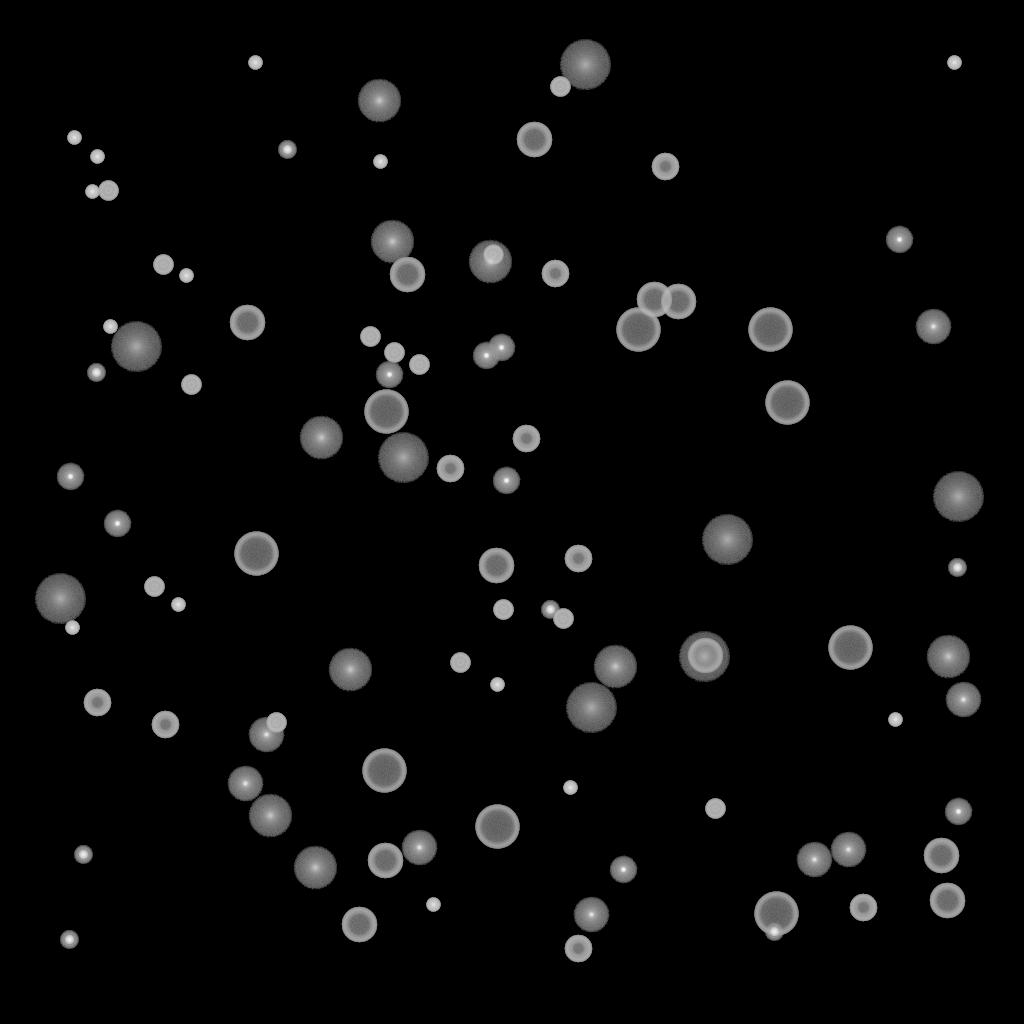depth:-10: (492, 467, 520, 495), (103, 510, 131, 538), (375, 361, 403, 389), (944, 798, 972, 826), (609, 856, 637, 884), (885, 226, 913, 254), (56, 463, 84, 491), (487, 334, 515, 362), (472, 342, 500, 370)
depth:-20: (278, 141, 296, 159), (87, 364, 105, 382), (765, 923, 783, 941), (948, 559, 966, 577), (60, 931, 78, 949), (74, 846, 92, 864), (541, 601, 559, 619)
depth:-30: (490, 678, 504, 692), (65, 621, 79, 635), (563, 781, 577, 795), (171, 598, 185, 612), (248, 56, 262, 70), (67, 131, 81, 145), (85, 185, 99, 199), (888, 713, 902, 727), (90, 150, 104, 164), (947, 56, 961, 70), (373, 155, 387, 169), (426, 898, 440, 912), (179, 269, 193, 283), (103, 320, 117, 334)
depth:-40: (266, 713, 286, 733), (409, 355, 429, 375), (153, 255, 173, 275), (384, 343, 404, 363), (483, 245, 503, 265), (493, 600, 513, 620), (450, 653, 470, 673), (360, 327, 380, 347), (705, 799, 725, 819), (181, 375, 201, 395), (98, 181, 118, 201), (553, 609, 573, 629), (144, 577, 164, 597), (550, 77, 570, 97)
depth:-50: (151, 711, 179, 739), (541, 260, 569, 288), (564, 545, 592, 573), (564, 935, 592, 963), (512, 425, 540, 453), (436, 455, 464, 483), (83, 689, 111, 717), (651, 153, 679, 181), (849, 894, 877, 922)
depth:-60: (229, 305, 265, 341), (389, 257, 425, 293), (478, 548, 514, 584), (341, 907, 377, 943), (516, 122, 552, 158), (660, 284, 696, 320), (687, 638, 723, 674), (367, 843, 403, 879), (636, 282, 672, 318), (923, 838, 959, 874), (929, 883, 965, 919)
depth:-70: (362, 749, 406, 793), (828, 626, 872, 670), (748, 308, 792, 352), (765, 381, 809, 425), (616, 308, 660, 352), (475, 805, 519, 849), (234, 532, 278, 576), (364, 390, 408, 434), (754, 892, 798, 936)
depth:0: (796, 842, 832, 878), (227, 766, 263, 802), (573, 897, 609, 933), (248, 717, 284, 753), (401, 830, 437, 866), (830, 832, 866, 868), (915, 309, 951, 345), (945, 682, 981, 718)
depth:10: (468, 240, 512, 284), (593, 645, 637, 689), (357, 79, 401, 123), (299, 416, 343, 460), (293, 846, 337, 890), (328, 648, 372, 692), (370, 220, 414, 264), (926, 635, 970, 679), (248, 794, 292, 838)
depth:20: (932, 472, 984, 522), (377, 433, 429, 483), (110, 322, 162, 372), (701, 515, 753, 565), (34, 574, 86, 624), (559, 40, 611, 90), (678, 632, 730, 682), (565, 683, 617, 733)
